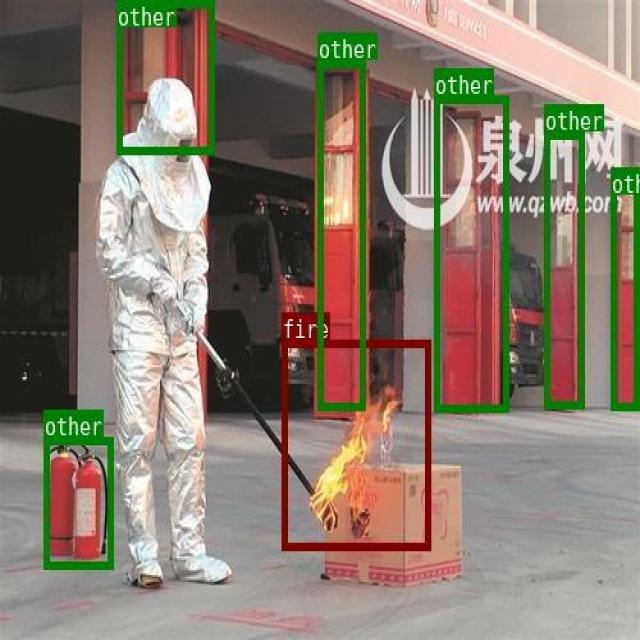fire: (281, 338, 429, 548)
